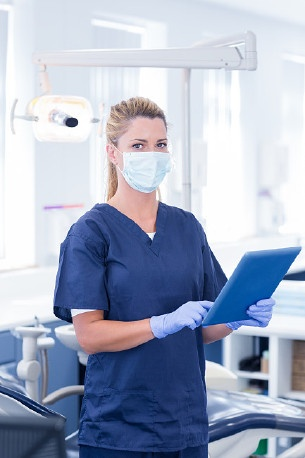Mask: (118, 134, 175, 193)
